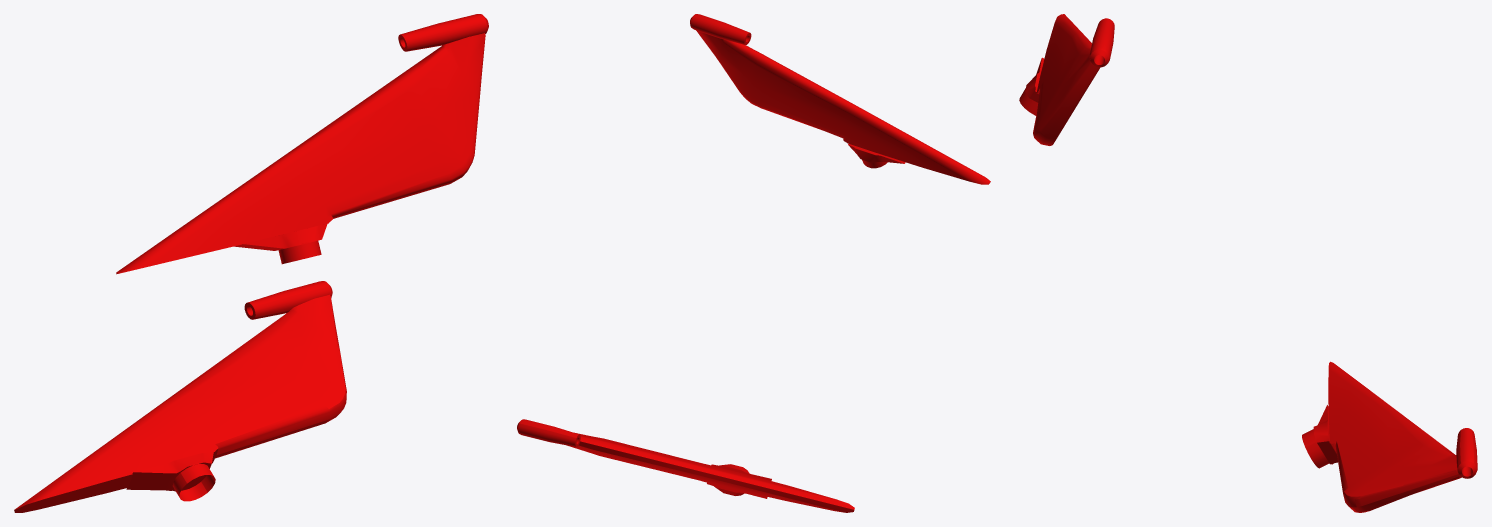
Rendered from rafale_highlight_04_sonde_droite.fbx.
3 views of the same model, side by side, from view 1: azimuth 30°, elevation 25°; view 2: azimuth 150°, elevation 25°; view 3: azimuth 270°, elevation 25° (orthographic). The views are drawn at different scales.
Parts seen in each view (by area): view 1: rafale_highlight_04_sonde_droite; view 2: rafale_highlight_04_sonde_droite; view 3: rafale_highlight_04_sonde_droite.
Part boxes in pixels (x1,y1,x2,y2): rafale_highlight_04_sonde_droite: (14,14,488,512); rafale_highlight_04_sonde_droite: (517,14,990,512); rafale_highlight_04_sonde_droite: (1019,14,1477,512).
Bounding box in the file's own units: 8.49 × 10.03 × 8.41.
